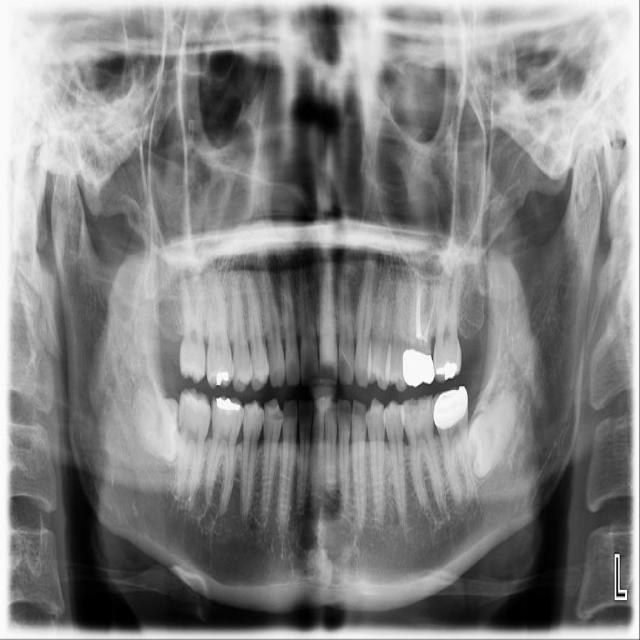Crown: (433, 384, 469, 429), (402, 348, 435, 388)
Filling: (435, 360, 461, 380), (213, 367, 231, 388), (215, 397, 241, 411)
Root Canal Treatment: (426, 289, 441, 338), (417, 276, 422, 335)
impacted tooth: (467, 386, 516, 476), (132, 387, 181, 460)
